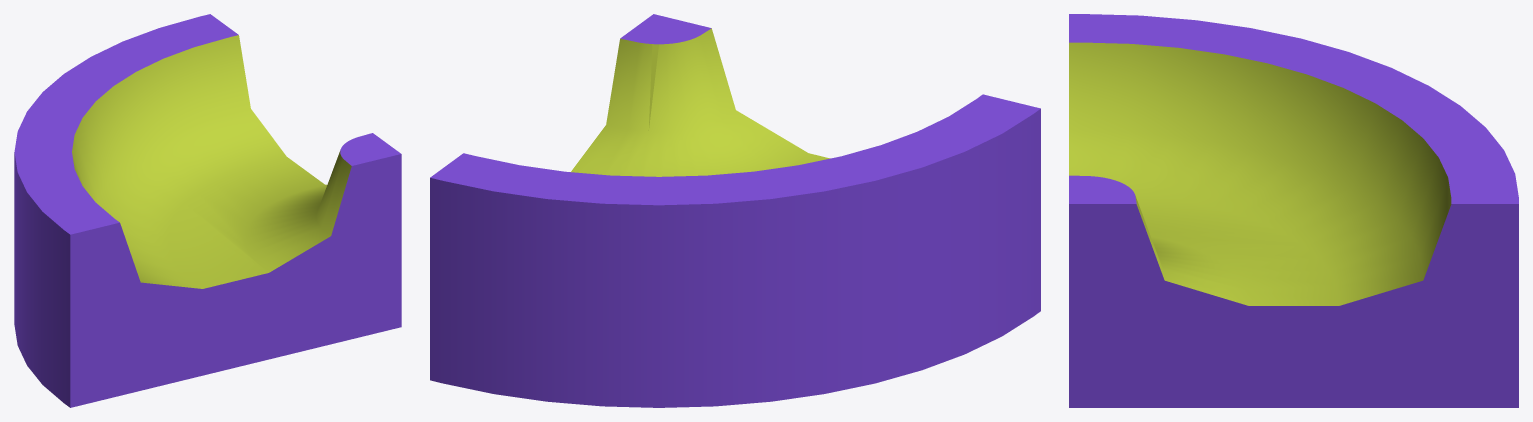
The model's file is corner-col.dae.
The picture shows the model from 3 angles, left to right: view 1: azimuth 30°, elevation 25°; view 2: azimuth 150°, elevation 25°; view 3: azimuth 270°, elevation 25°; orthographic projection. The views are drawn at different scales.
Parts seen in each view (by area): view 1: corner-col; view 2: corner-col; view 3: corner-col.
Boxes of the visible parts, box(x1,y1,x2,y2) form: corner-col: box(14, 14, 401, 407); corner-col: box(430, 14, 1040, 407); corner-col: box(1069, 14, 1518, 407).
Bounding box in the file's own units: 1 × 1 × 0.5.
